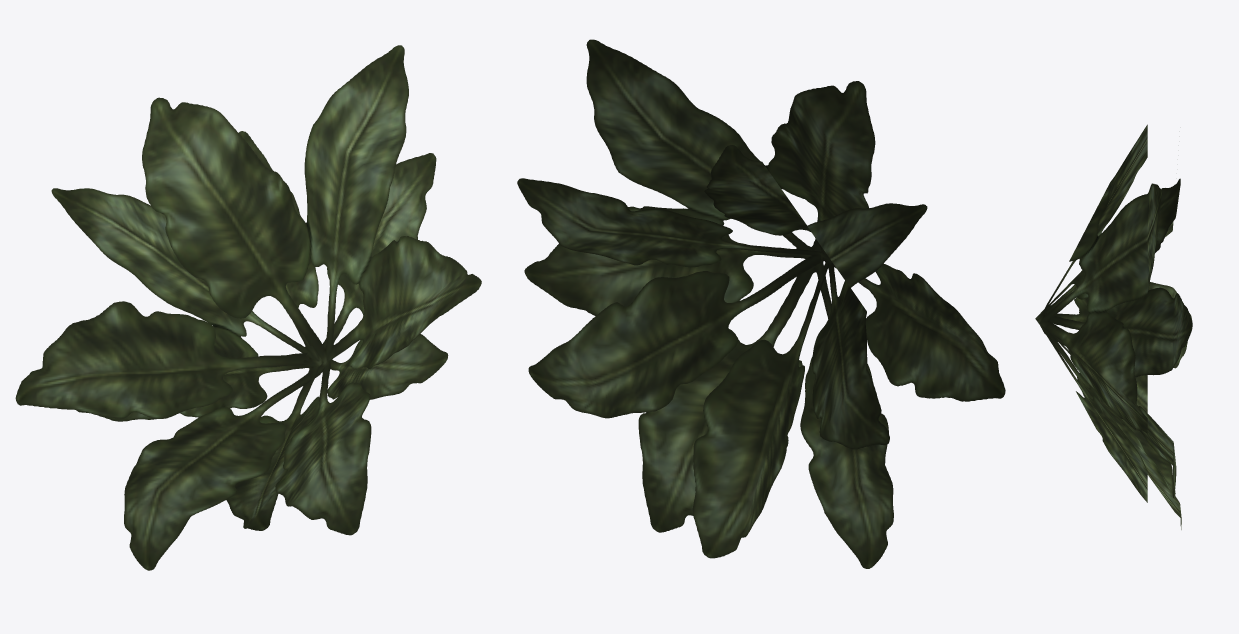
The model's file is Weed_02_a_01.fbx.
3 renders of one model, left to right at view 1: azimuth 30°, elevation 25°; view 2: azimuth 150°, elevation 25°; view 3: azimuth 270°, elevation 25°, orthographic. The views are drawn at different scales.
Visible parts, largest first — view 1: Weed_02_a_01; view 2: Weed_02_a_01; view 3: Weed_02_a_01.
Part boxes in pixels (x1,y1,x2,y2): Weed_02_a_01: (15, 45, 481, 570); Weed_02_a_01: (517, 39, 1005, 568); Weed_02_a_01: (1035, 124, 1192, 529).
Size of the model in its own units: 1.11 by 1.11 by 0.4631.
